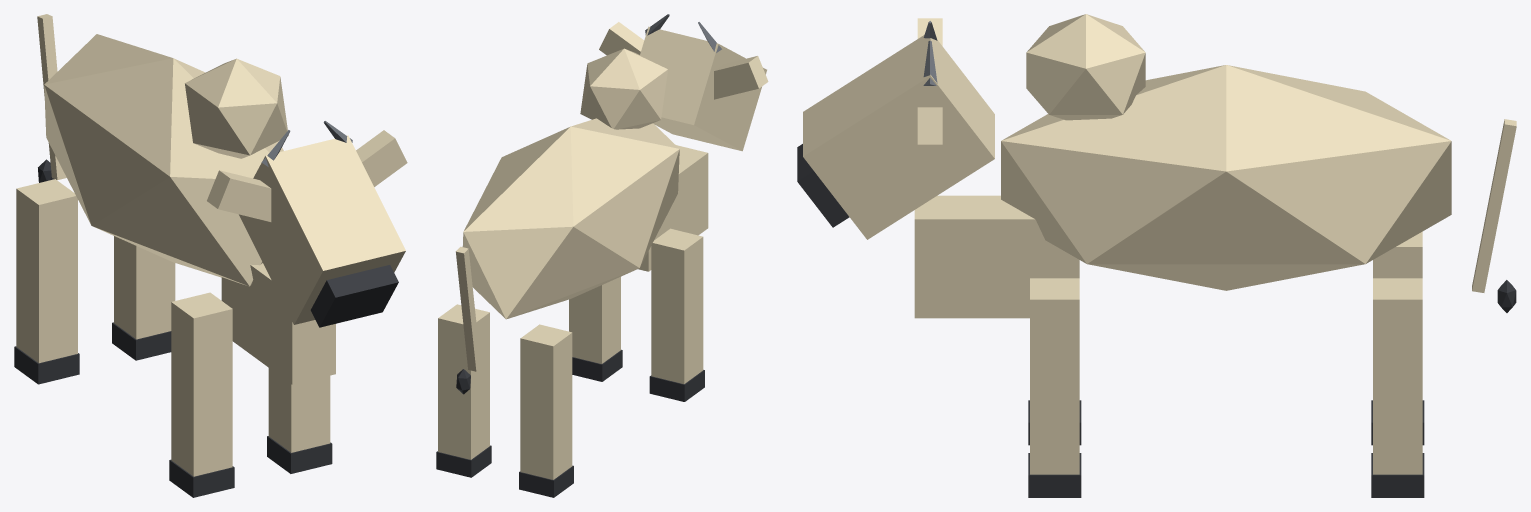
The model's file is Vaca cebu.fbx.
3 views of the same model, side by side, from view 1: azimuth 30°, elevation 25°; view 2: azimuth 150°, elevation 25°; view 3: azimuth 270°, elevation 25° (orthographic). The views are drawn at different scales.
Parts seen in each view (by area): view 1: Vaca cebu; view 2: Vaca cebu; view 3: Vaca cebu.
Boxes of the visible parts, x1,y1,x2,y2 form: Vaca cebu: [14, 14, 407, 497]; Vaca cebu: [436, 14, 768, 497]; Vaca cebu: [797, 14, 1516, 497].
Bounding box in the file's own units: 0.7773 × 1.58 × 2.31.
